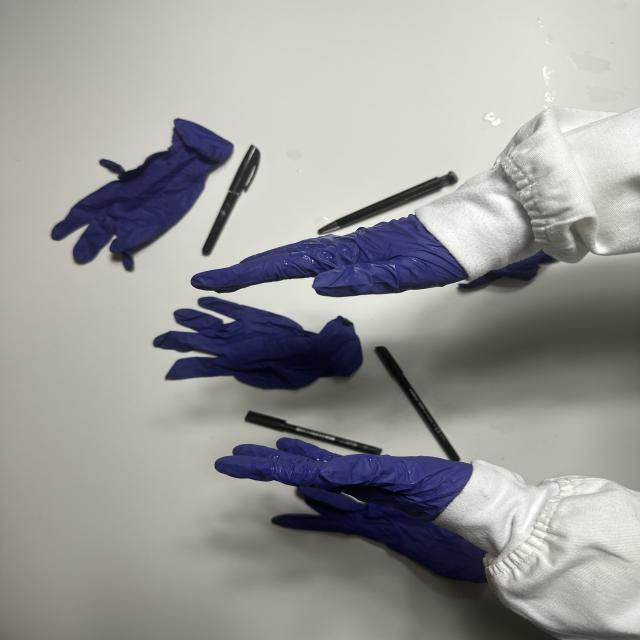gloves_contaminated: (192, 215, 467, 297), (216, 450, 470, 521)
